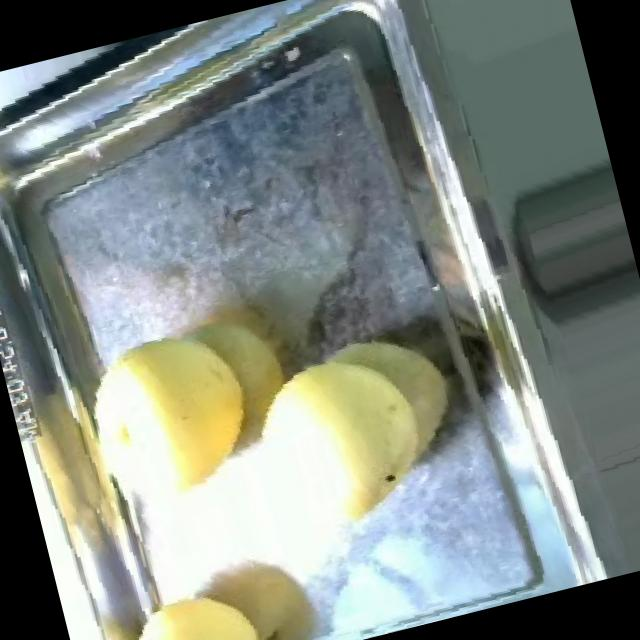Fruit: (269, 311, 486, 545), (90, 290, 276, 518), (111, 561, 287, 640)
